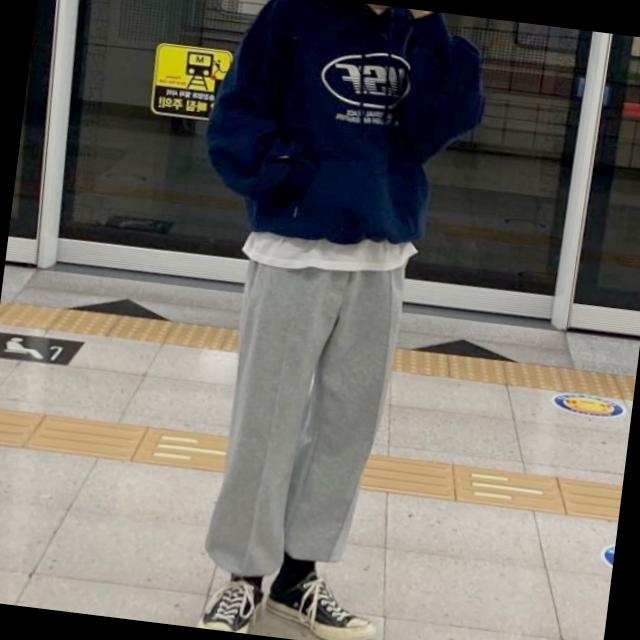hoodies: (192, 0, 494, 263)
trainingpants: (203, 243, 405, 590)
